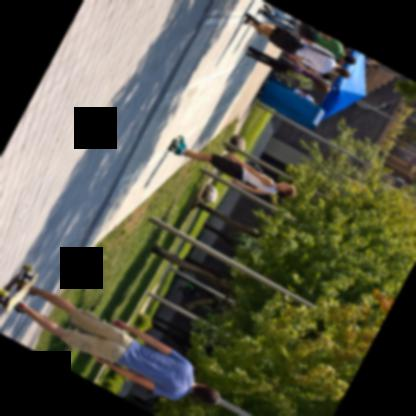backpack: (285, 69, 315, 89), (248, 161, 263, 174)
handbag: (270, 29, 334, 59), (297, 23, 319, 43)
